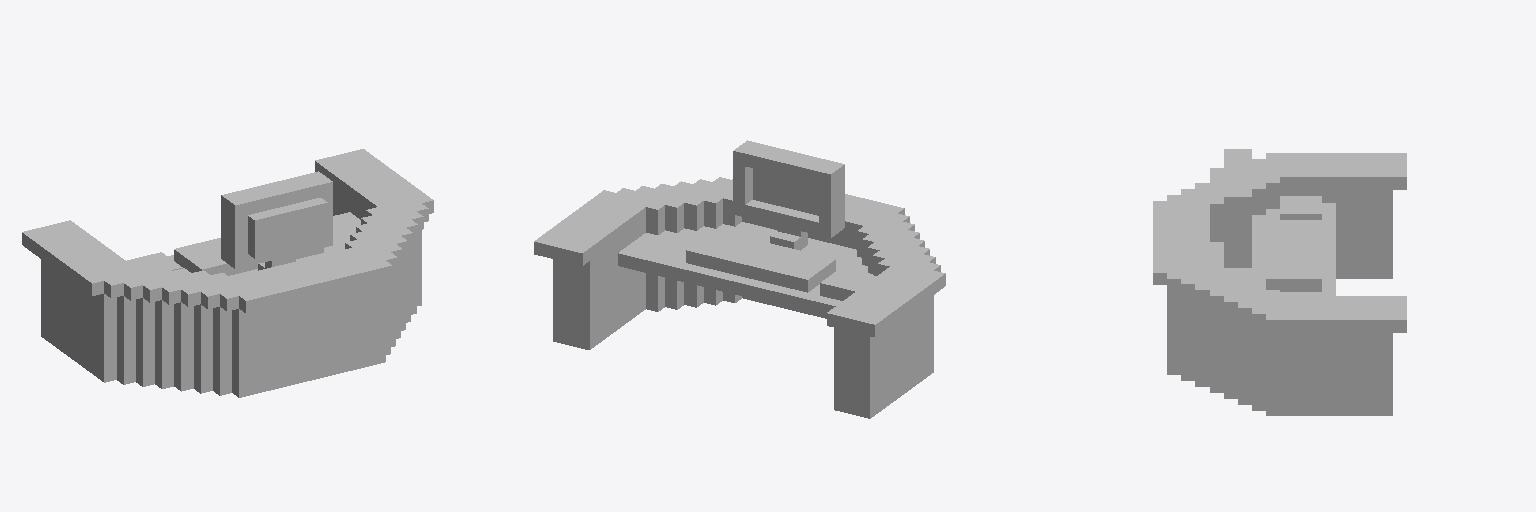
The model's file is station.obj.
The picture shows the model from 3 angles: view 1: azimuth 30°, elevation 25°; view 2: azimuth 150°, elevation 25°; view 3: azimuth 270°, elevation 25°; orthographic projection.
Parts seen in each view (by area): view 1: object 1; view 2: object 1; view 3: object 1.
Part boxes in pixels (x1,y1,x2,y2): object 1: (22, 149, 433, 397); object 1: (534, 140, 945, 418); object 1: (1153, 149, 1406, 415).
Bounding box in the file's own units: 2.8 × 1.3 × 1.8.